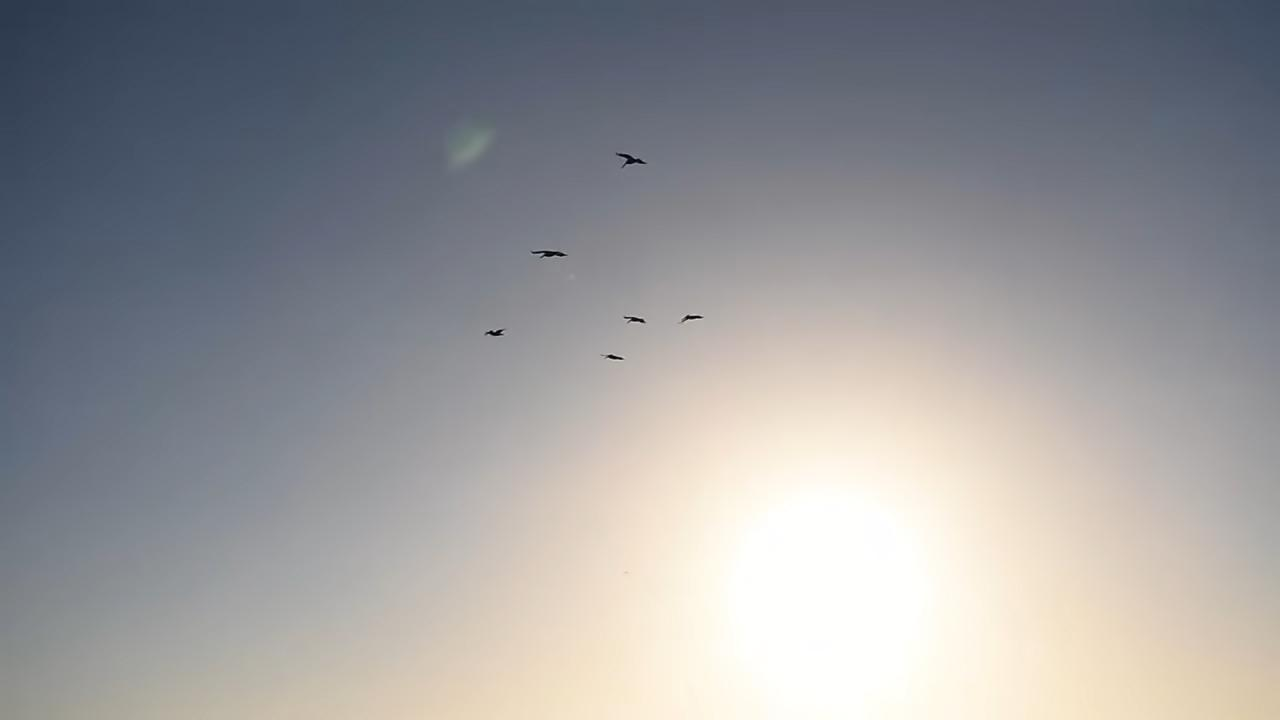Bird: (524, 236, 574, 274), (608, 146, 656, 176), (616, 307, 652, 336), (675, 306, 708, 334), (478, 323, 516, 346), (595, 347, 629, 370)
